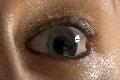eye: (47, 29, 78, 59)
